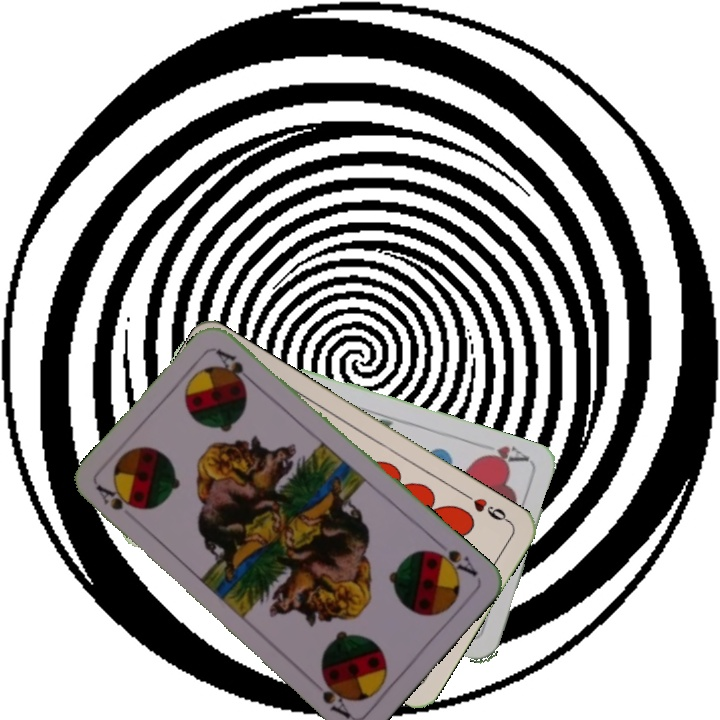H9: (460, 489, 514, 526)
HA: (475, 441, 532, 469)
SA: (426, 537, 480, 580), (92, 481, 137, 513)
